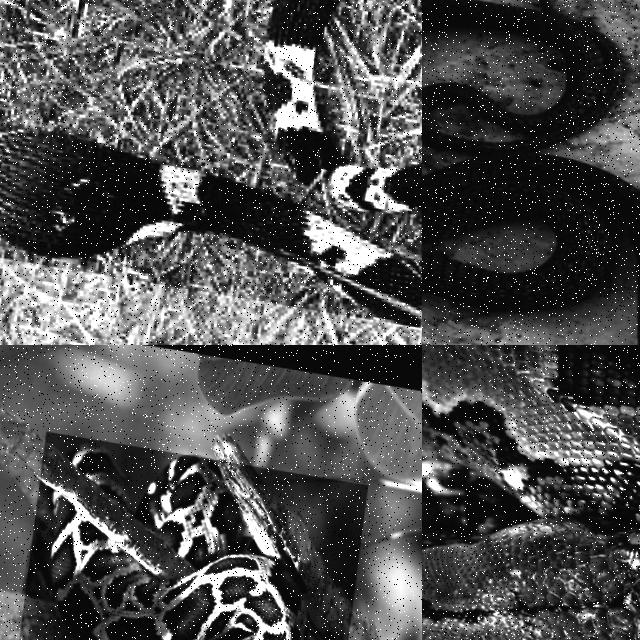Chrysopelea ornata: (422, 0, 639, 342)
Malayopython reticulatus: (422, 345, 639, 639)
Naja siamensis: (0, 128, 421, 326)
Python bivittatus: (27, 455, 306, 639)
snake: (0, 128, 421, 326), (422, 0, 639, 342), (422, 345, 639, 639), (27, 455, 306, 639)
